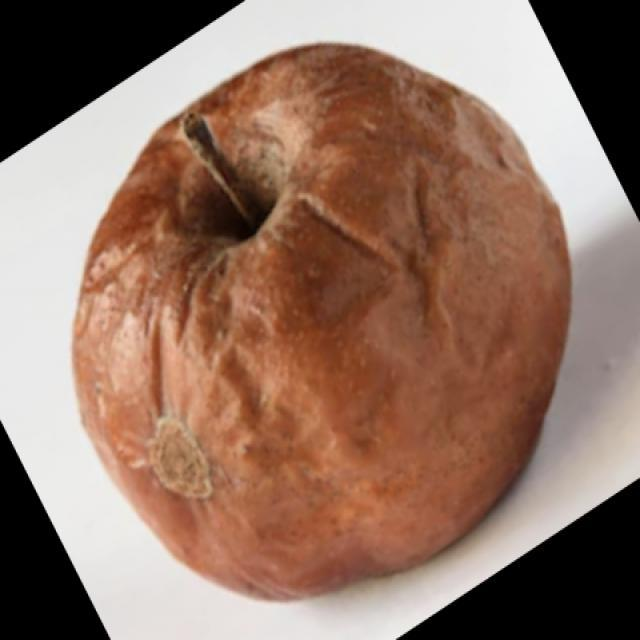Rotten: (76, 45, 562, 590)
